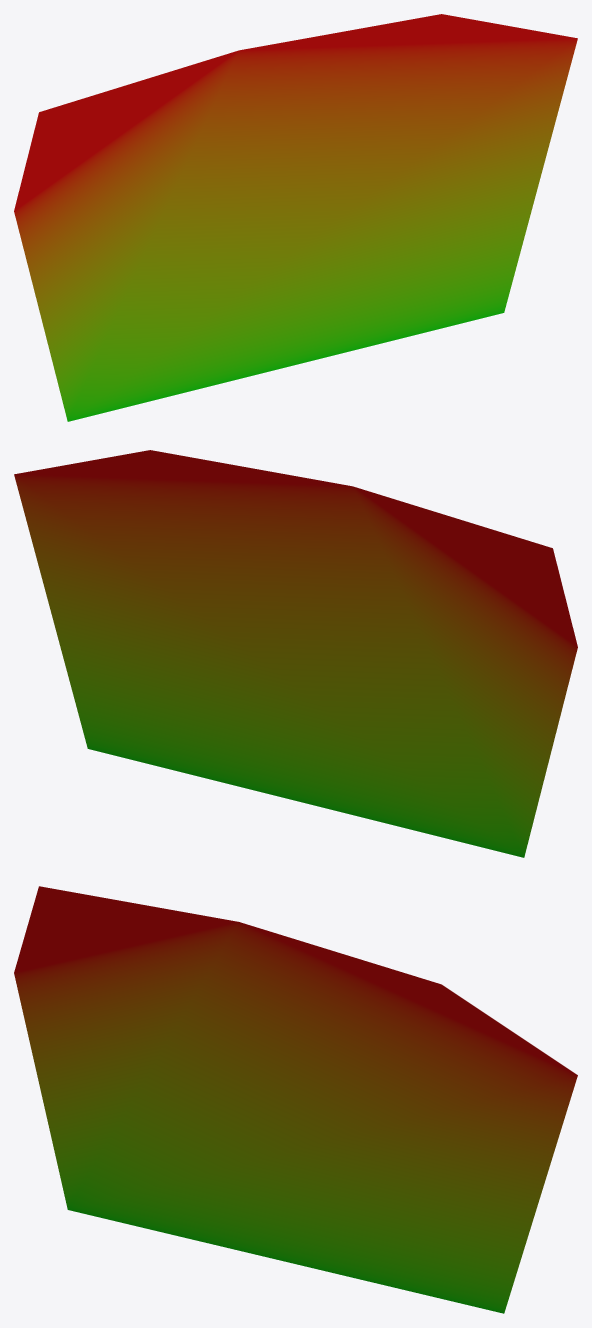
File: Var5_LOD3.fbx
3 renders of one model, top to bottom at view 1: azimuth 30°, elevation 25°; view 2: azimuth 150°, elevation 25°; view 3: azimuth 330°, elevation 25°, orthographic.
Visible parts, largest first — view 1: _7608_Var5_LOD3; view 2: _7608_Var5_LOD3; view 3: _7608_Var5_LOD3.
Boxes of the visible parts, x1,y1,x2,y2 form: _7608_Var5_LOD3: [14, 14, 577, 421]; _7608_Var5_LOD3: [14, 450, 577, 857]; _7608_Var5_LOD3: [14, 886, 577, 1313].
Bounding box in the file's own units: 14.05 × 7.85 × 3.87e-07.
